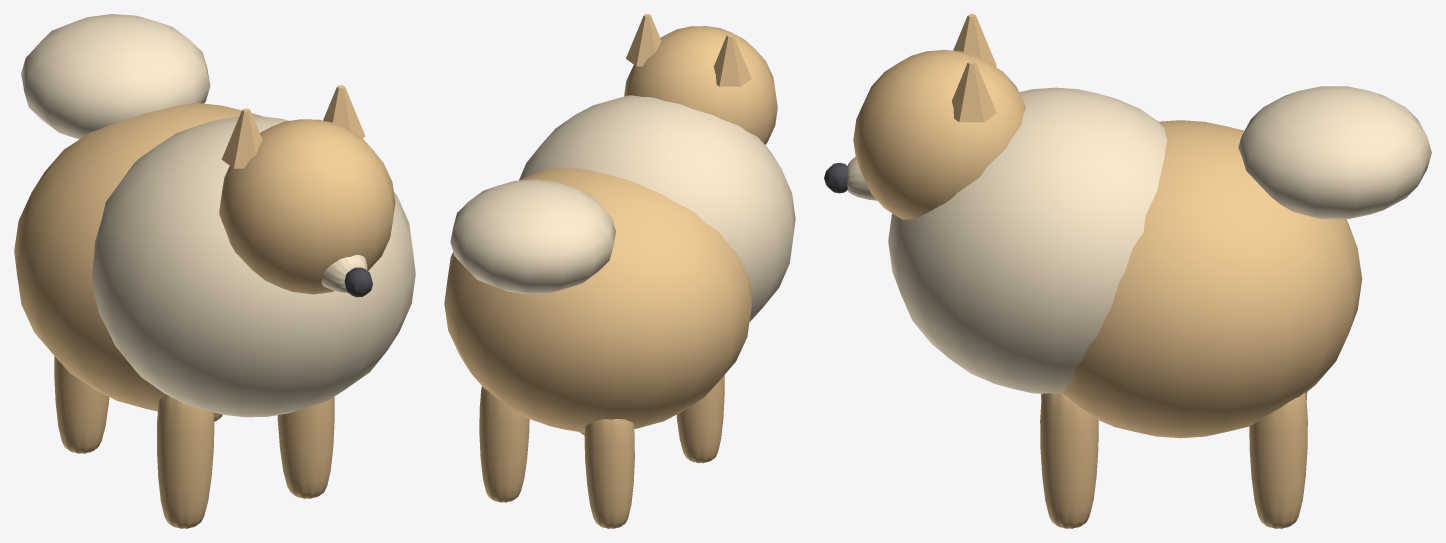
Rendered from dog_pomeranian.glb.
3 views of the same model, side by side, from view 1: azimuth 30°, elevation 25°; view 2: azimuth 150°, elevation 25°; view 3: azimuth 270°, elevation 25° (orthographic). The views are drawn at different scales.
Visible parts, largest first — view 1: dog_pomeranian; view 2: dog_pomeranian; view 3: dog_pomeranian.
Part boxes in pixels (left/top/right/bottom): dog_pomeranian: left=14, top=14, right=415, bottom=528; dog_pomeranian: left=444, top=14, right=795, bottom=528; dog_pomeranian: left=824, top=14, right=1431, bottom=528.
Size of what is drawn, in the model's own units: 0.26 by 0.36 by 0.436.
